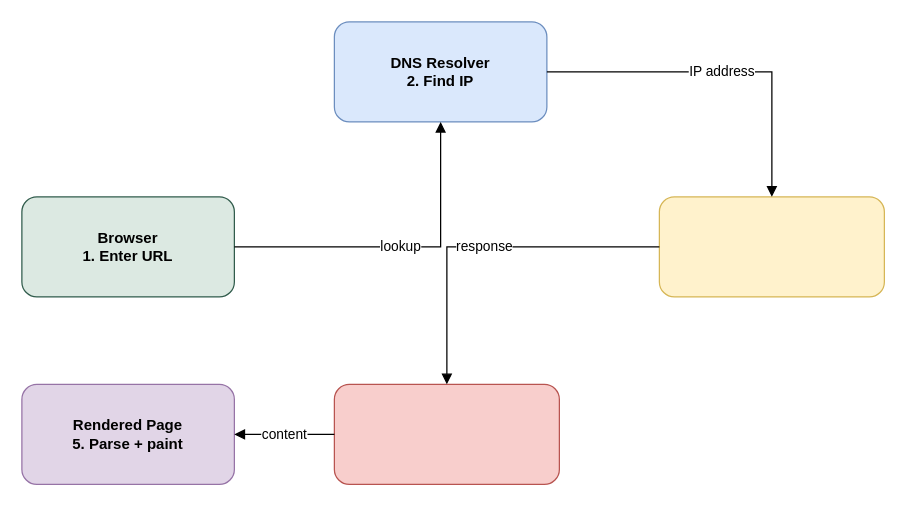
Some shapes in this 906 by 506 pixel diagram are drawn without their labels. Here are the shapes that lost their labels. From the top down, the box of each, then its label:
(658, 196, 884, 297): Web Server 3. Handle request
(333, 383, 559, 484): HTTP Response 4. Status + content
